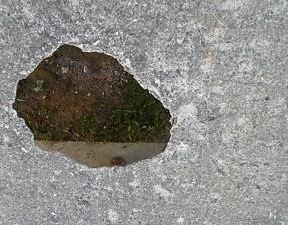Spalling: (12, 43, 174, 169)
